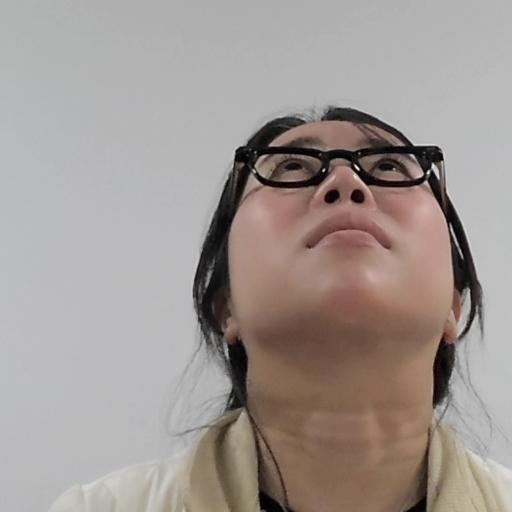no_glasses: (205, 97, 480, 405)
